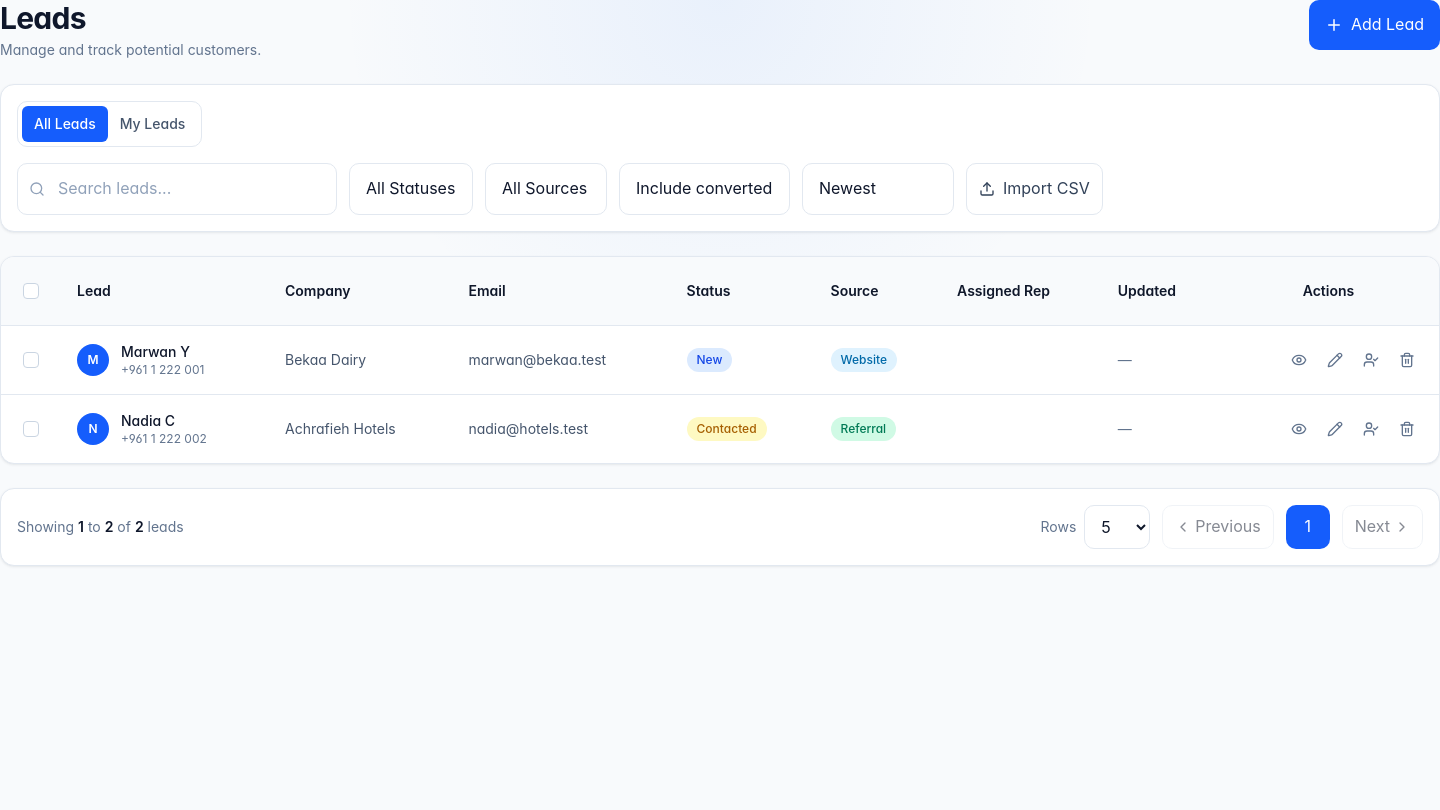
Test: Lead — conversion › prefills the dialog from the lead
Click the button named "Convert Nadia C to a customer".
click(1371, 429)  # box [1355,413,1387,445]
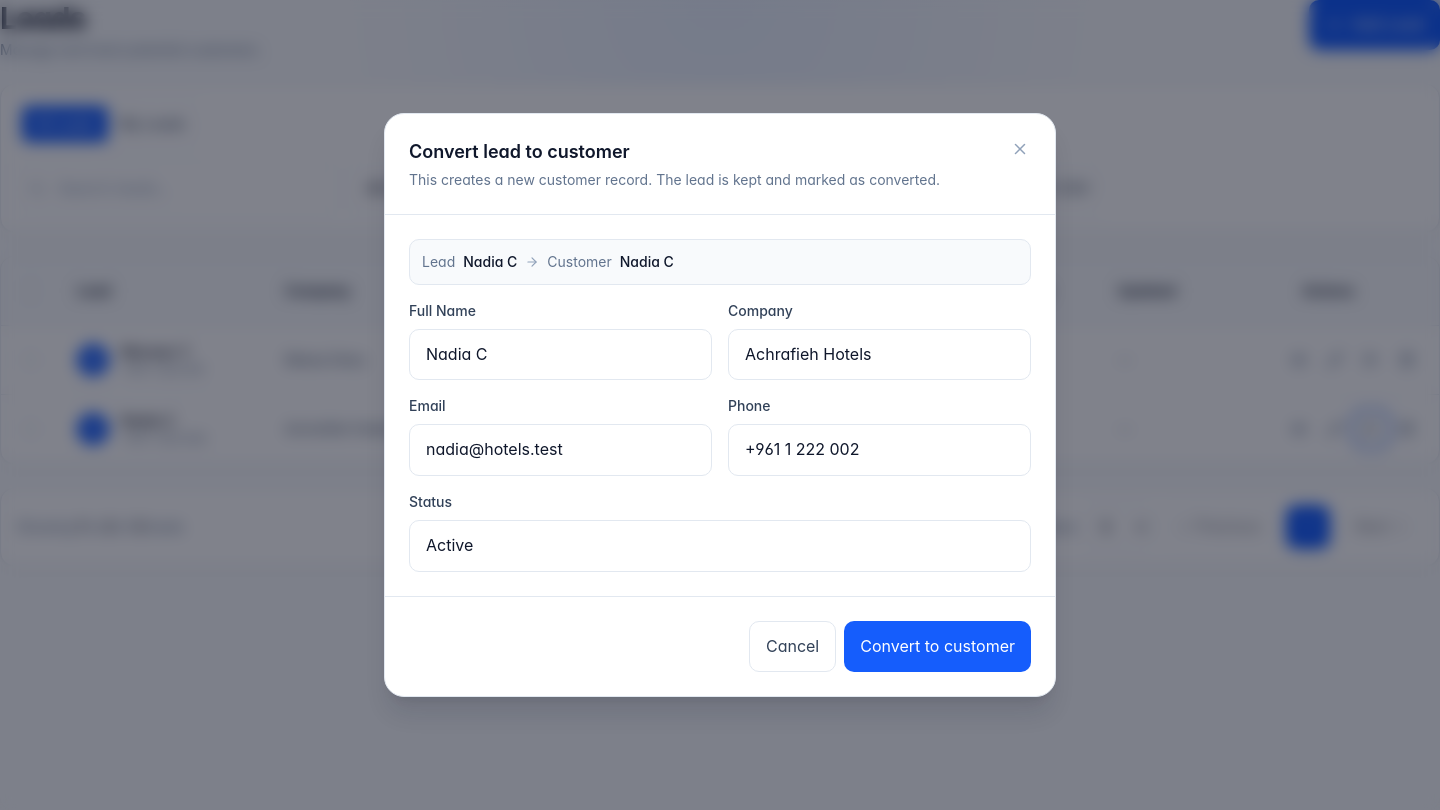
Result: the field labelled "Full Name" holds "Nadia C" at [409,329,712,380]
Result: the field labelled "Company" holds "Achrafieh Hotels" at [728,329,1031,380]
Result: the field labelled "Email" holds "nadia@hotels.test" at [409,424,712,476]
